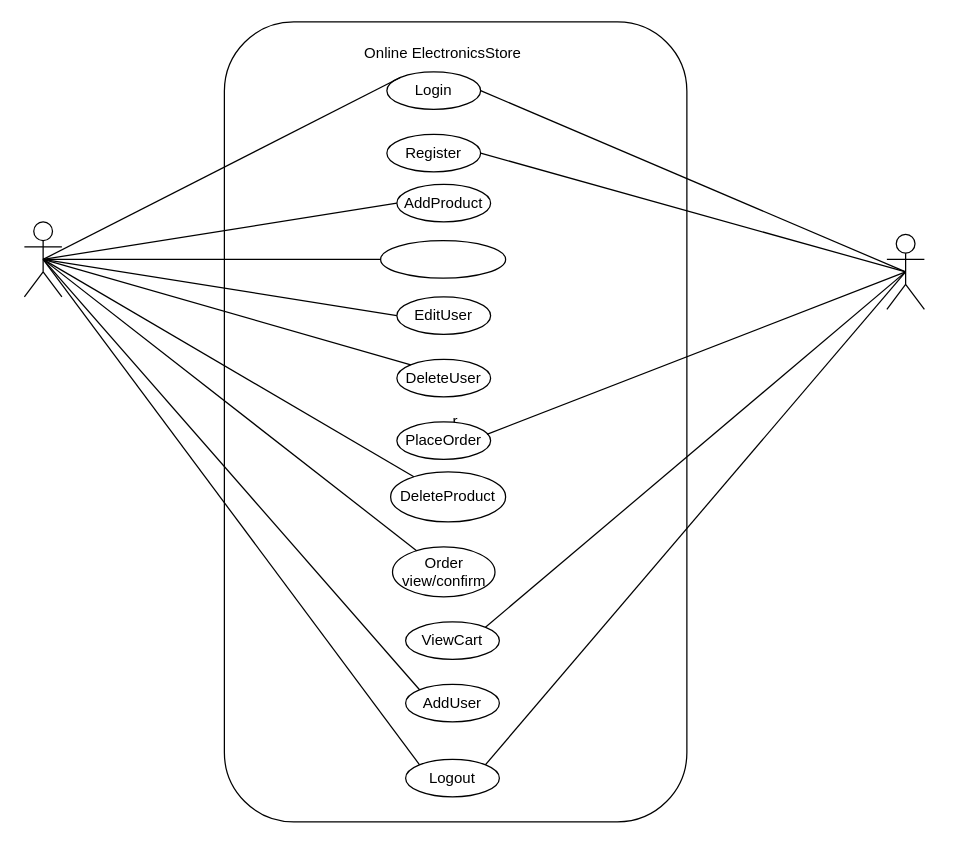
Some shapes in this 959 by 844 pixel diagram are drawn without their labels. The centre of each missing label's shape, as x and y in pixels:
"Admin" belongs at (42,259).
"Customer" belongs at (905,271).
"UpdateProduct" belongs at (442,258).
